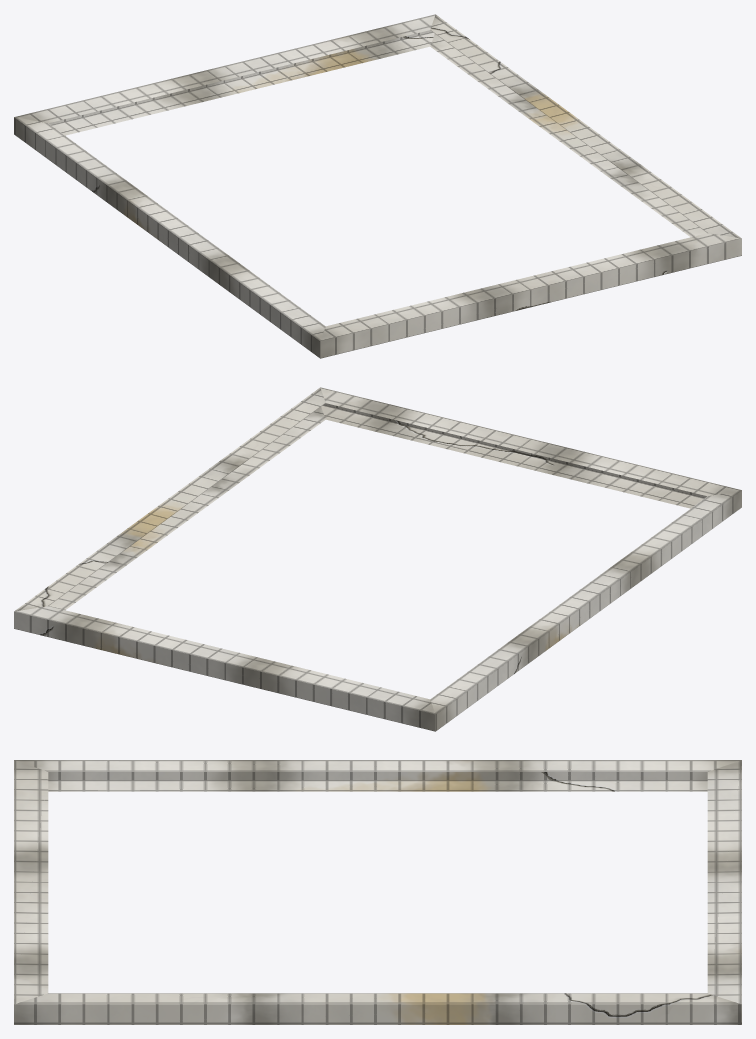
Rendered from TesteiraCasaCorredorMedia 1.fbx.
3 renders of one model, top to bottom at view 1: azimuth 30°, elevation 25°; view 2: azimuth 150°, elevation 25°; view 3: azimuth 270°, elevation 25°, orthographic. The views are drawn at different scales.
Visible parts, largest first — view 1: TesteiraCasaCorredorMedia; view 2: TesteiraCasaCorredorMedia; view 3: TesteiraCasaCorredorMedia.
Part boxes in pixels (left/top/right/bottom): TesteiraCasaCorredorMedia: left=14, top=14, right=741, bottom=358; TesteiraCasaCorredorMedia: left=14, top=387, right=741, bottom=731; TesteiraCasaCorredorMedia: left=14, top=760, right=741, bottom=1024.
Bounding box in the file's own units: 1515 × 59.23 × 1907.
